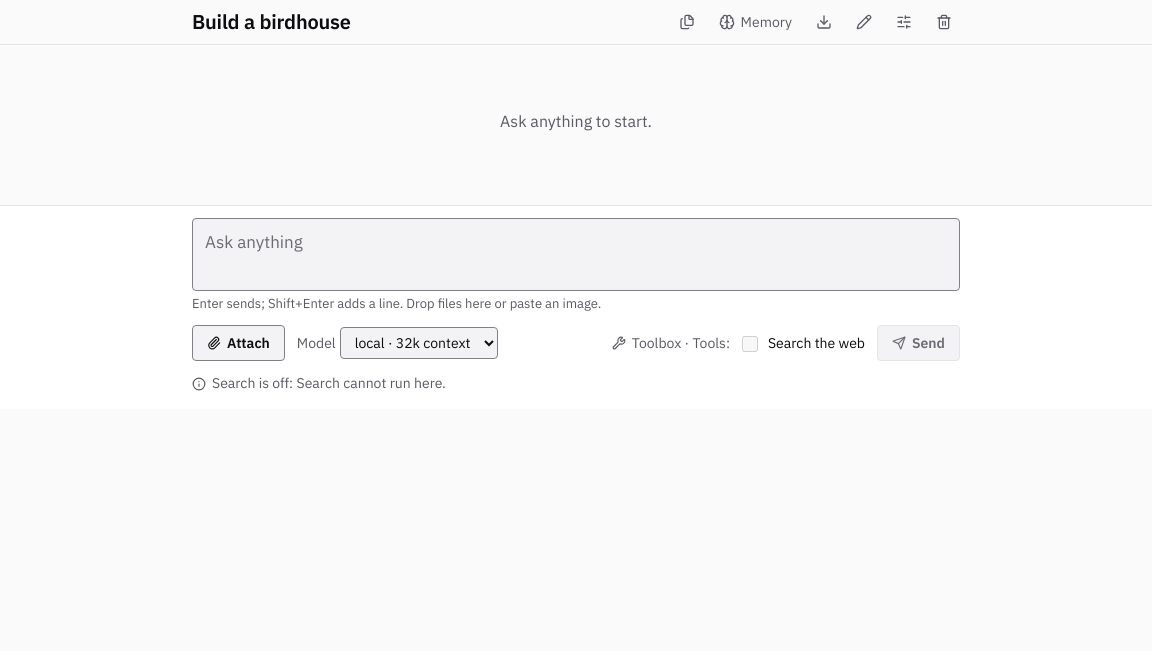
Test: Memory in a chat › is one panel at a time with the chat's settings, whichever is opened last
This screenshot has width=1152, height=651.
Click the button with test id "memory-chip" at (755, 22), box [711, 6, 800, 38]
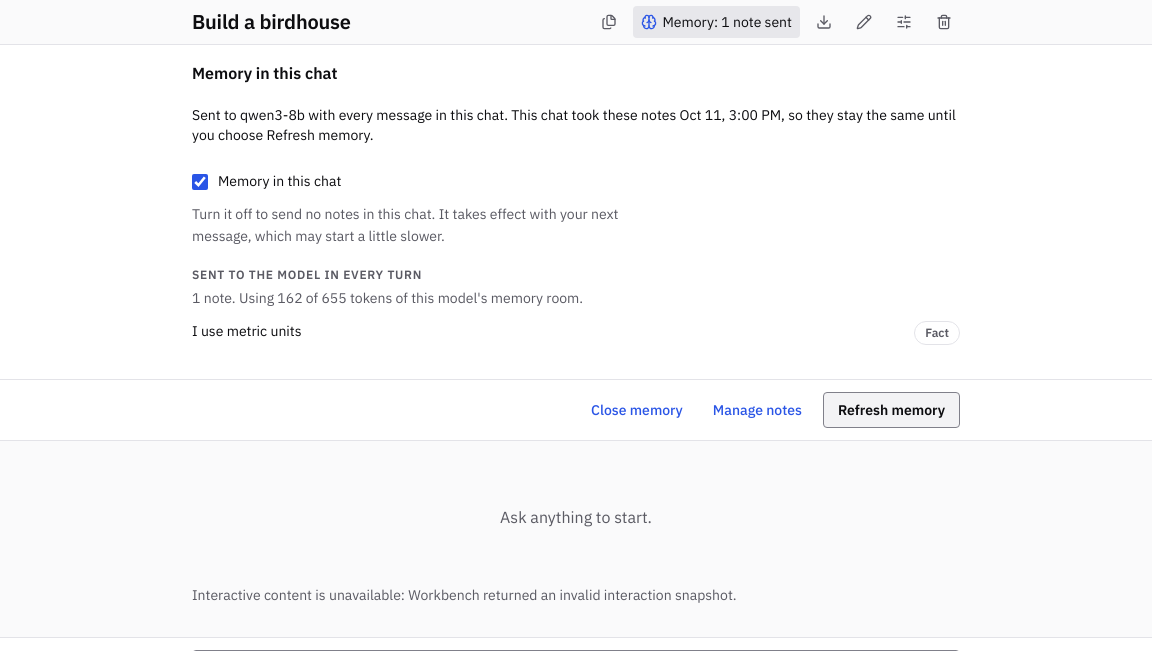
Result: the element with test id "memory-drawer" is shown
Click the button named "This chat's settings" at (904, 22), box [888, 6, 920, 38]
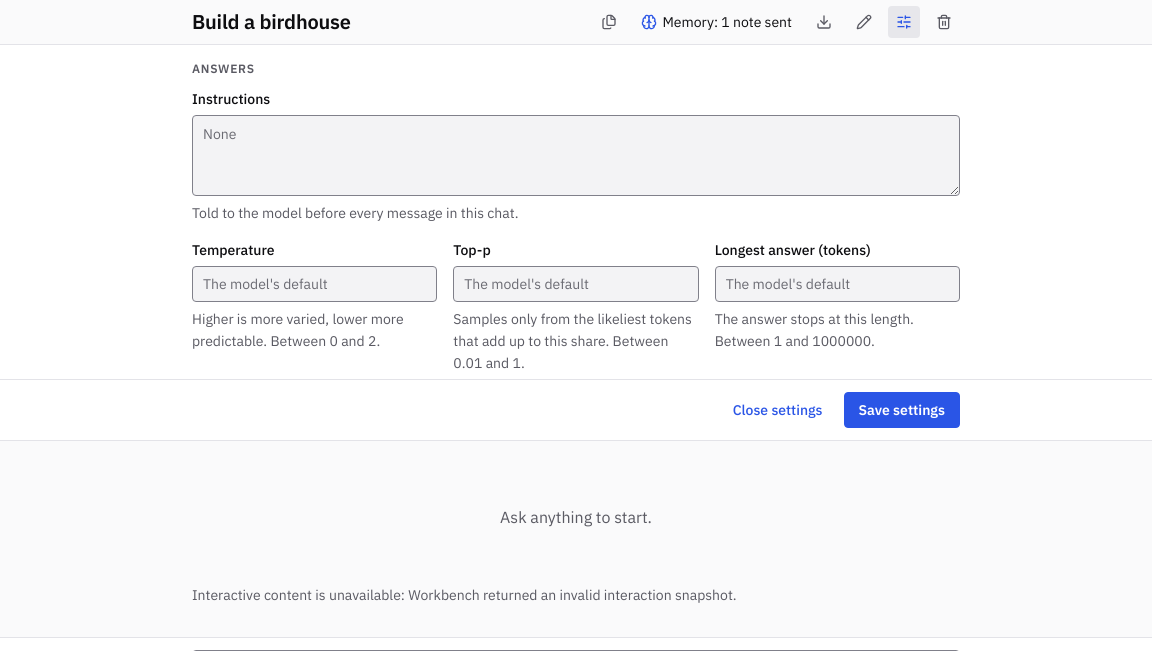
Result: the element with test id "memory-drawer" is gone
Result: the element with test id "chat-settings" is shown
Result: the button named "This chat's settings" is expanded at [888, 6, 920, 38]
Click the button with test id "memory-chip" at (716, 22), box [632, 6, 800, 38]
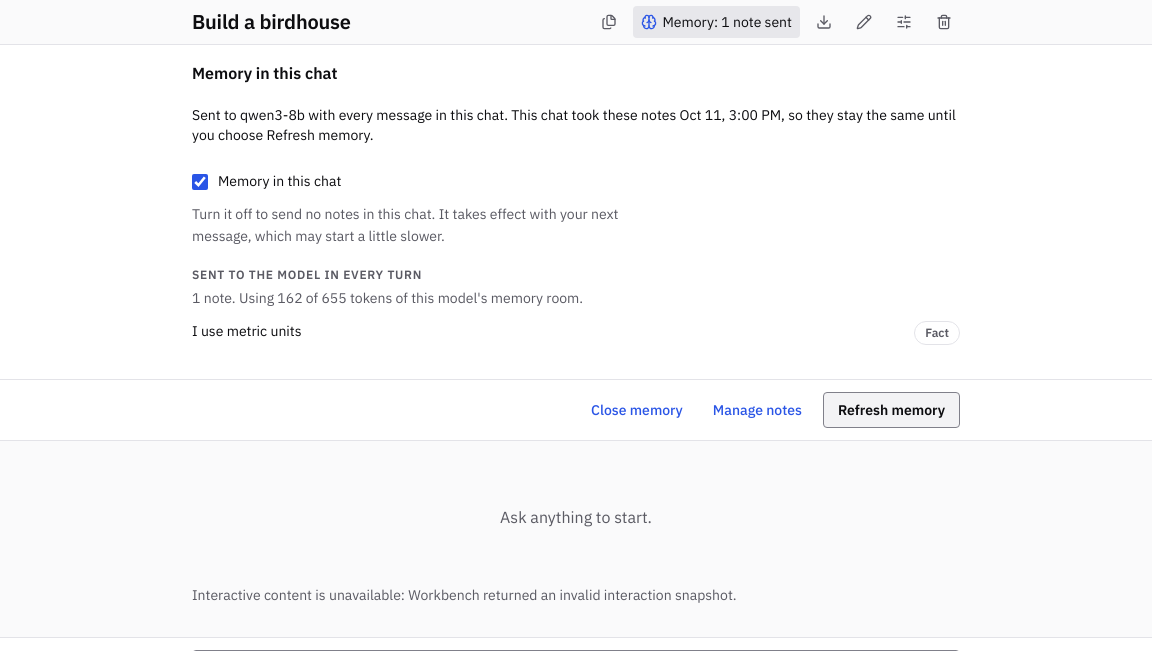
Result: the element with test id "chat-settings" is gone
Result: the element with test id "memory-drawer" is shown
Result: the button named "This chat's settings" is collapsed at [888, 6, 920, 38]
